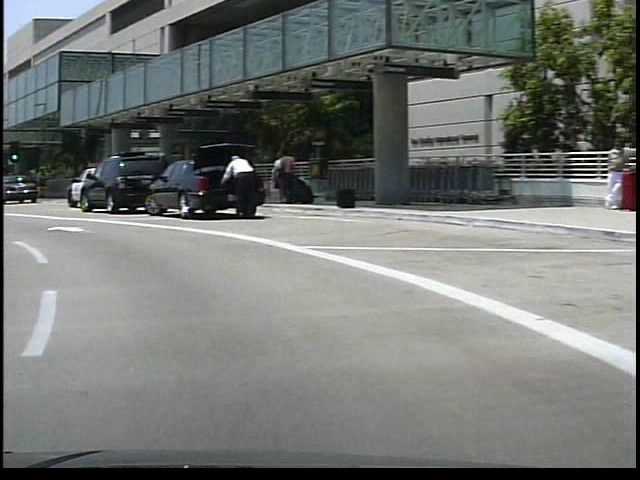person: (214, 155, 257, 226), (273, 151, 293, 209), (265, 151, 283, 209)
